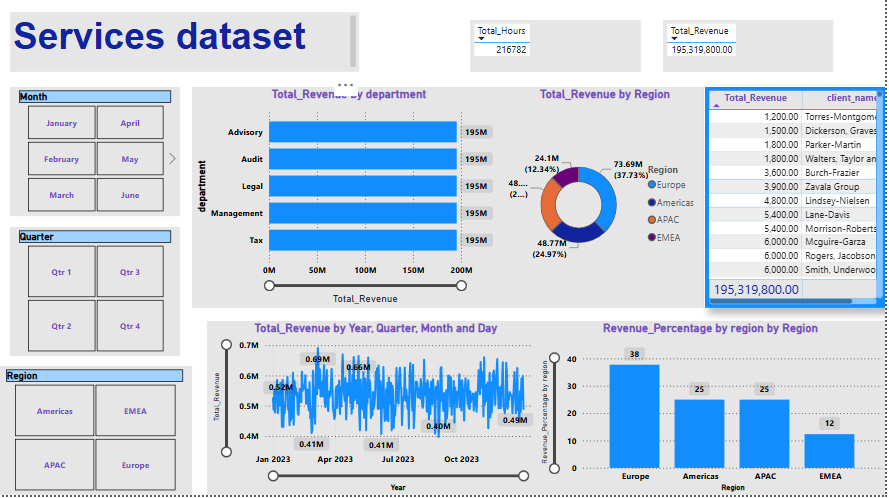

This screenshot's page, from the dashboard's own definition file:
{"tool":"powerbi","page":{"name":"Page 1","canvas":[1280,720],"ordinal":0},"visuals":[{"type":"slicer","fields":{"Values":["Branch_data.Region"]},"box":[0,534.2,280.5,186.5],"z":0},{"type":"slicer","fields":{"Values":["Table Date.Date.Variation.Date Hierarchy.Quarter"]},"box":[18.5,334.3,245.2,186.5],"z":1000},{"type":"slicer","fields":{"Values":["Table Date.Date.Variation.Date Hierarchy.Month"]},"box":[18.5,132.7,245.2,186.5],"z":2000},{"type":"tableEx","fields":{"Values":["zll measures.Total_Hours"]},"box":[681,36,246.2,74.9],"z":3000},{"type":"tableEx","fields":{"Values":["zll measures.Total_Revenue"]},"box":[959,36,244.8,74.9],"z":4000},{"type":"lineChart","fields":{"Y":["zll measures.Total_Revenue"],"Category":["Table Date.Date.Variation.Date Hierarchy.Year","Table Date.Date.Variation.Date Hierarchy.Quarter","Table Date.Date.Variation.Date Hierarchy.Month","Table Date.Date.Variation.Date Hierarchy.Day"]},"box":[302.4,469.4,486.7,250.6],"z":5000},{"type":"barChart","fields":{"Category":["slaes by department.department"],"Y":["zll measures.Total_Revenue"]},"box":[280.8,132.5,452.2,318.2],"z":6000},{"type":"donutChart","fields":{"Y":["zll measures.Total_Revenue"],"Category":["Branch_data.Region"]},"box":[733,132.5,285.1,318.2],"z":7000},{"type":"tableEx","fields":{"Values":["zll measures.Total_Revenue","Services_data.client_name"]},"box":[1019.5,132.5,260.6,318.2],"z":8000},{"type":"clusteredColumnChart","fields":{"Category":["Branch_data.Region"],"Y":["zll measures.Revenue_Percentage by region"]},"box":[774.7,469.4,505.4,250.6],"z":9000},{"type":"textbox","box":[18.7,24.5,502.6,86.4],"z":9001}]}

Visuals, with their boxes in screenshot pixels (x1, y1, x2, y2), scaled from the page's 1280x720 canvas onto the 889x498 screenshot:
slicer - Branch_data.Region: (0, 369, 195, 497)
slicer - Table Date.Date.Variation.Date Hierarchy.Quarter: (13, 231, 183, 360)
slicer - Table Date.Date.Variation.Date Hierarchy.Month: (13, 92, 183, 221)
tableEx - zll measures.Total_Hours: (473, 25, 644, 77)
tableEx - zll measures.Total_Revenue: (666, 25, 836, 77)
lineChart - zll measures.Total_Revenue x Table Date.Date.Variation.Date Hierarchy.Year: (210, 325, 548, 497)
barChart - slaes by department.department x zll measures.Total_Revenue: (195, 92, 509, 312)
donutChart - zll measures.Total_Revenue x Branch_data.Region: (509, 92, 707, 312)
tableEx - zll measures.Total_Revenue x Services_data.client_name: (708, 92, 888, 312)
clusteredColumnChart - Branch_data.Region x zll measures.Revenue_Percentage by region: (538, 325, 888, 497)
textbox: (13, 17, 362, 77)
